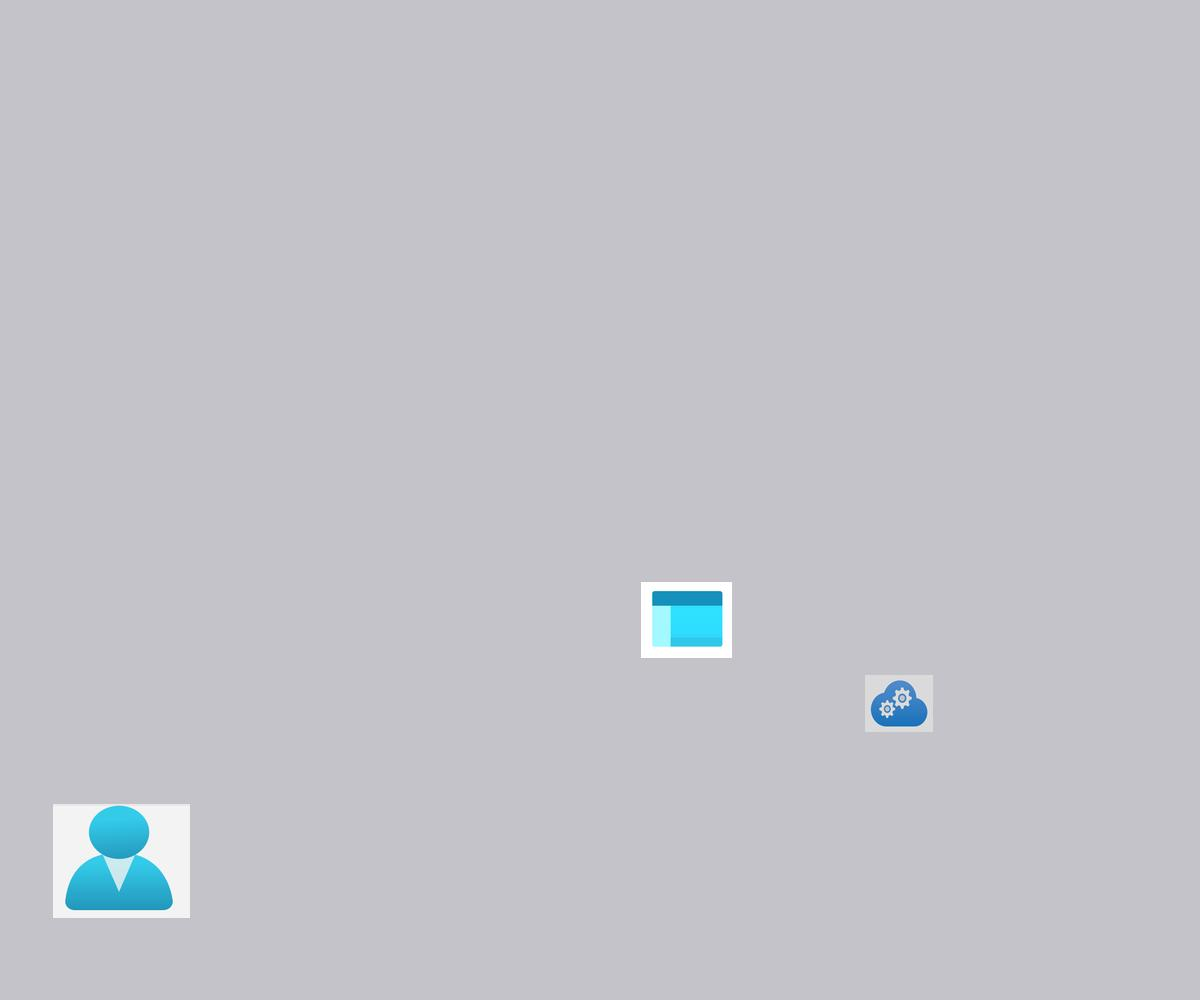Azure_cloud_services: (865, 675, 933, 732)
Azure_management-portal: (641, 582, 732, 658)
Azure_users: (53, 804, 190, 918)
